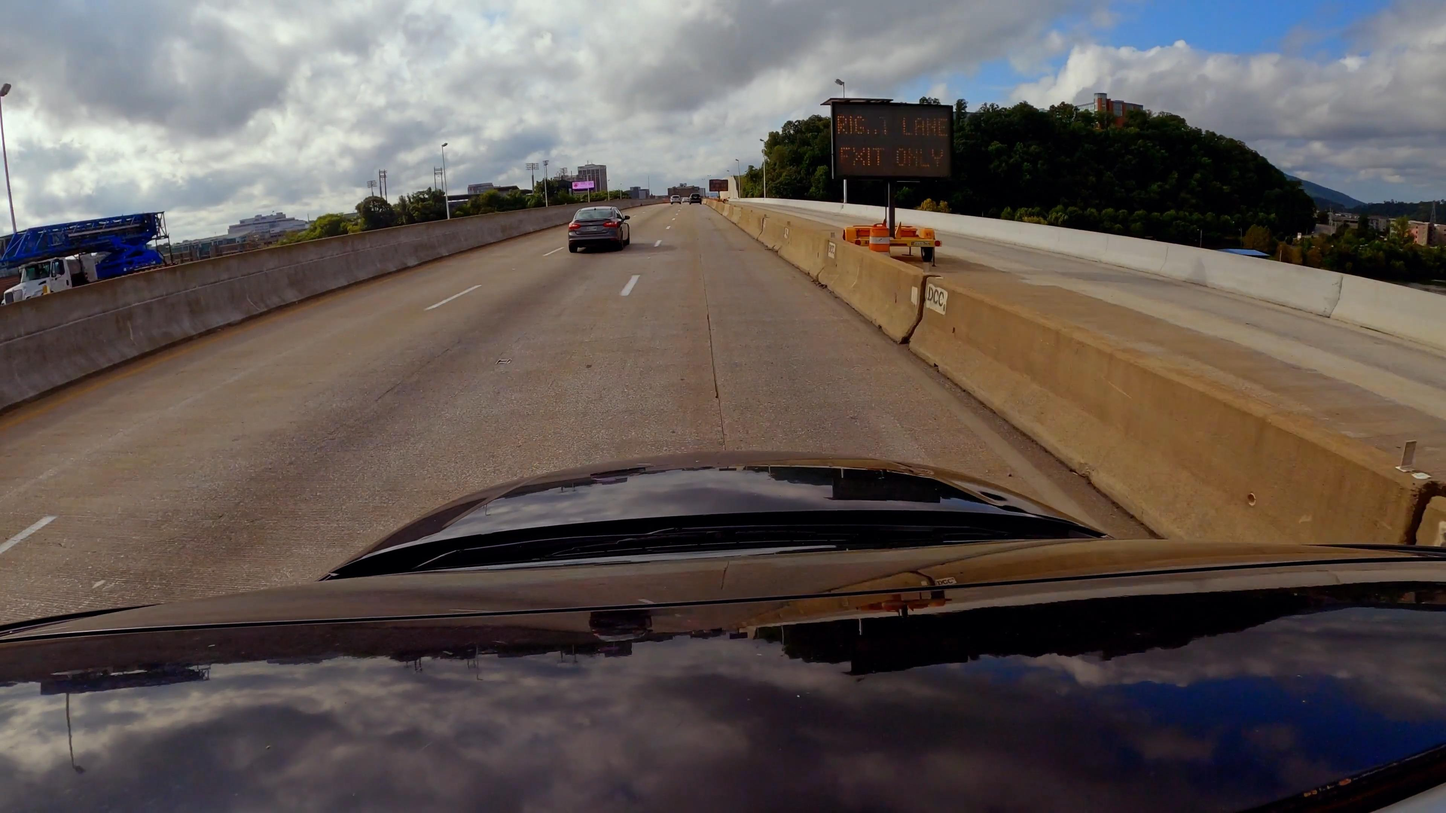dry: (0, 198, 1160, 627), (941, 244, 1446, 459)
